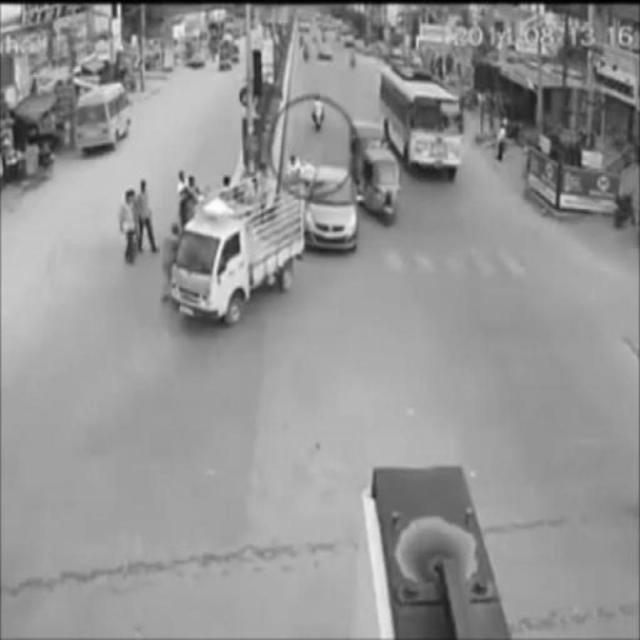accident: (287, 152, 359, 252)
vehicle: (173, 178, 305, 324), (382, 69, 463, 185), (356, 134, 403, 226), (78, 82, 135, 155)
